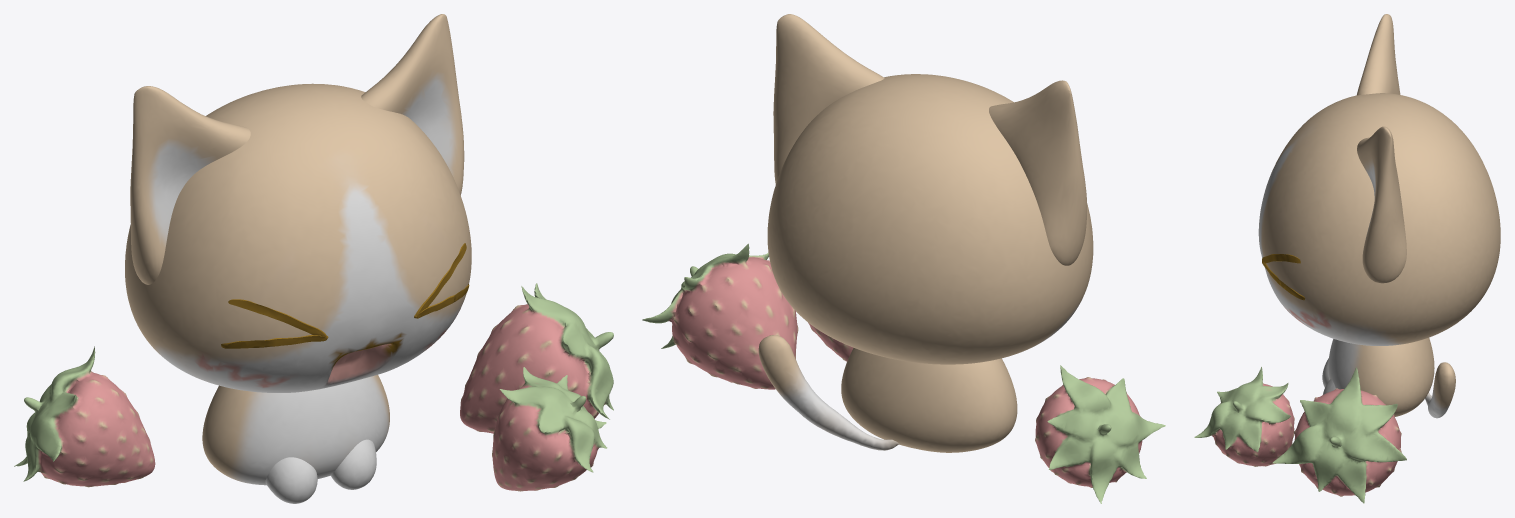
Rendered from strawberry-1.glb.
3 renders of one model, left to right at view 1: azimuth 30°, elevation 25°; view 2: azimuth 150°, elevation 25°; view 3: azimuth 270°, elevation 25°, orthographic. The views are drawn at different scales.
Parts seen in each view (by area): view 1: Object_3; view 2: Object_3; view 3: Object_3.
Part boxes in pixels (bbox=[...]): Object_3: bbox=[14, 14, 613, 503]; Object_3: bbox=[642, 14, 1165, 503]; Object_3: bbox=[1194, 14, 1500, 503].
Bounding box in the file's own units: 6.39 × 4.71 × 3.91.
